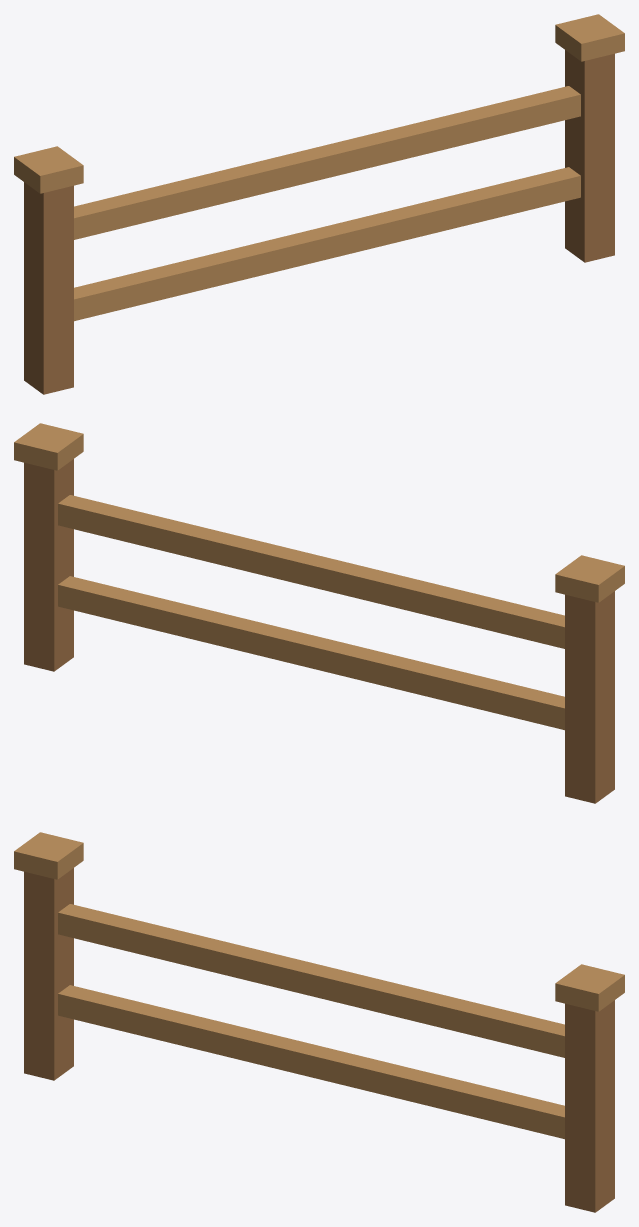
File: wood_fence.glb
3 views of the same model, one above another, from view 1: azimuth 30°, elevation 25°; view 2: azimuth 150°, elevation 25°; view 3: azimuth 330°, elevation 25° (orthographic).
Parts seen in each view (by area): view 1: Fence rail, Fence rail.001, Fence post, Fence post.001, Fence cap.001, Fence cap; view 2: Fence rail, Fence rail.001, Fence post, Fence post.001, Fence cap.001, Fence cap; view 3: Fence rail, Fence rail.001, Fence post.001, Fence post, Fence cap, Fence cap.001.
Boxes of the visible parts, <box> form: Fence rail: <box>74,167,580,321</box>; Fence rail.001: <box>74,86,580,239</box>; Fence post: <box>24,182,73,394</box>; Fence post.001: <box>565,50,614,262</box>; Fence cap.001: <box>555,14,624,61</box>; Fence cap: <box>14,146,83,193</box>; Fence rail: <box>58,576,564,730</box>; Fence rail.001: <box>58,495,564,648</box>; Fence post: <box>565,591,614,803</box>; Fence post.001: <box>24,459,73,671</box>; Fence cap.001: <box>14,423,83,470</box>; Fence cap: <box>555,555,624,602</box>; Fence rail: <box>58,985,564,1139</box>; Fence rail.001: <box>58,904,564,1057</box>; Fence post.001: <box>565,1000,614,1212</box>; Fence post: <box>24,868,73,1080</box>; Fence cap: <box>14,832,83,879</box>; Fence cap.001: <box>555,964,624,1011</box>.
Size of the model in its own units: 3.09 by 1.13 by 0.24.
